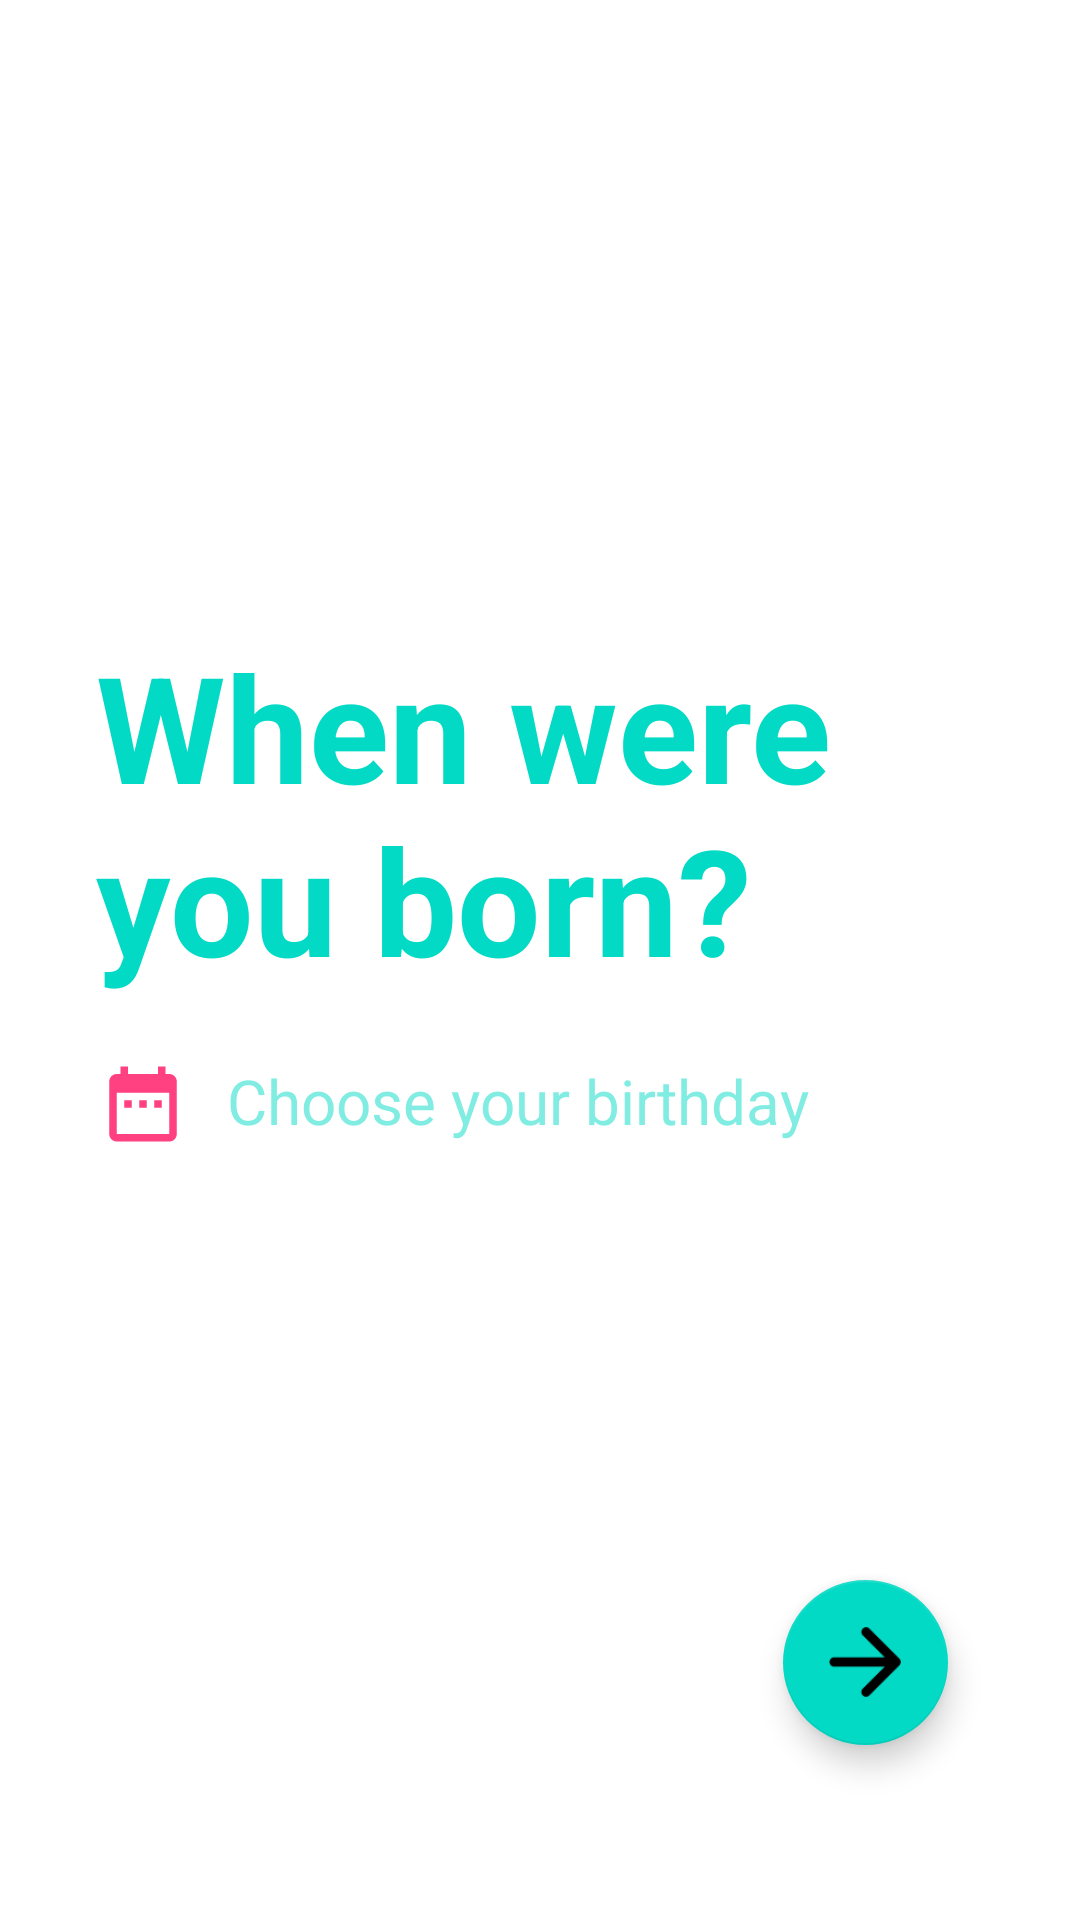

Locate icon controls on the screen. Image size 1080 × 1920, boxes as (x1, y1, x2, y2).
arrow forward: (783, 1580, 948, 1745)
calendar: (109, 1066, 177, 1142)
